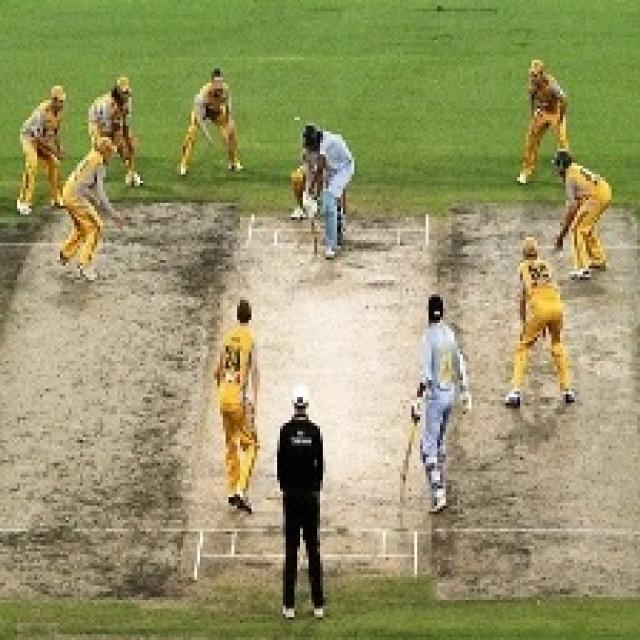batsman: (300, 117, 363, 266)
